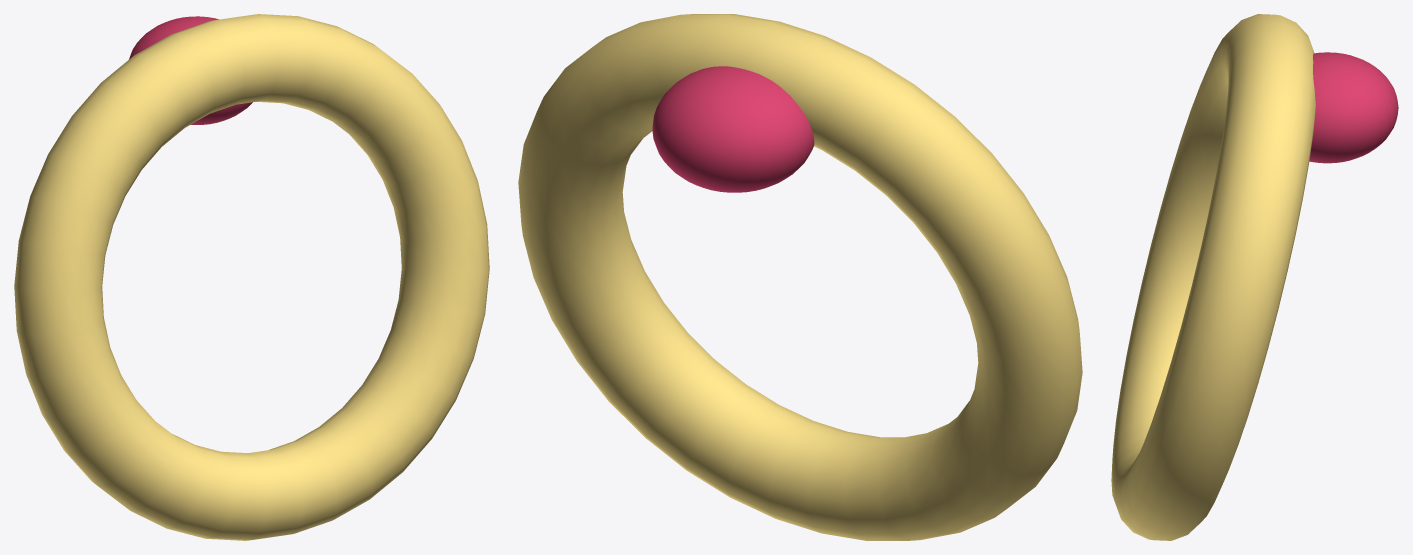
Rendered from ring.glb.
3 views of the same model, side by side, from view 1: azimuth 30°, elevation 25°; view 2: azimuth 150°, elevation 25°; view 3: azimuth 270°, elevation 25° (orthographic). The views are drawn at different scales.
Size of the model in its own units: 1.68 by 1.63 by 0.89.
